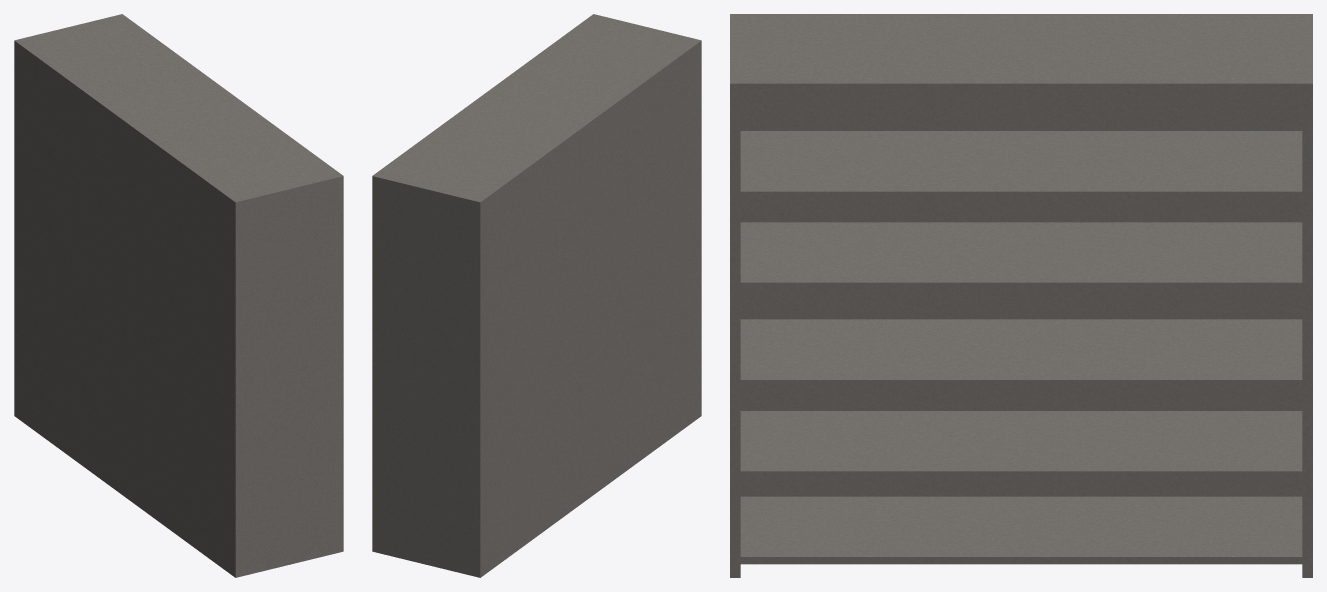
The model's file is equipment shelf.fbx.
The picture shows the model from 3 angles, left to right: view 1: azimuth 30°, elevation 25°; view 2: azimuth 150°, elevation 25°; view 3: azimuth 270°, elevation 25°; orthographic projection. The views are drawn at different scales.
Visible parts, largest first — view 1: polySurface4003; view 2: polySurface4003; view 3: polySurface4003.
Boxes of the visible parts, box(x1,y1,x2,y2) form: polySurface4003: box(14, 14, 343, 577); polySurface4003: box(372, 14, 701, 577); polySurface4003: box(730, 14, 1312, 577).
Size of the model in its own units: 0.7832 by 2.6 by 2.77.
Materials: 1 (1 with a texture image).
